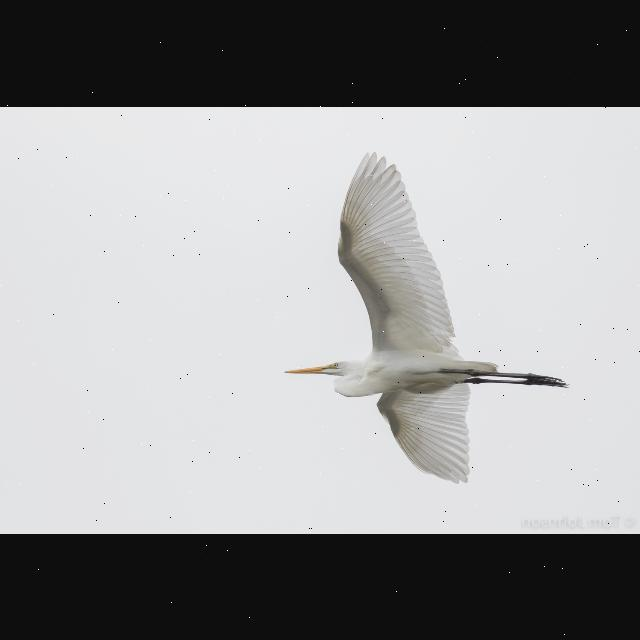egret: (276, 141, 570, 491)
